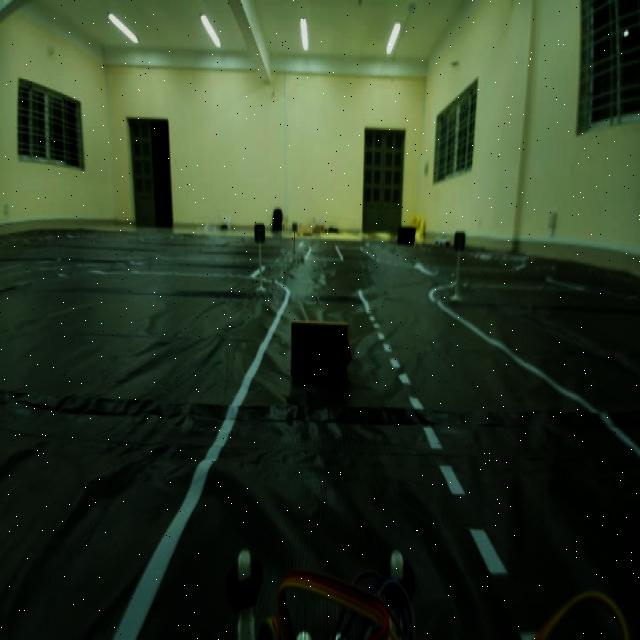roadblock: (286, 309, 357, 391)
